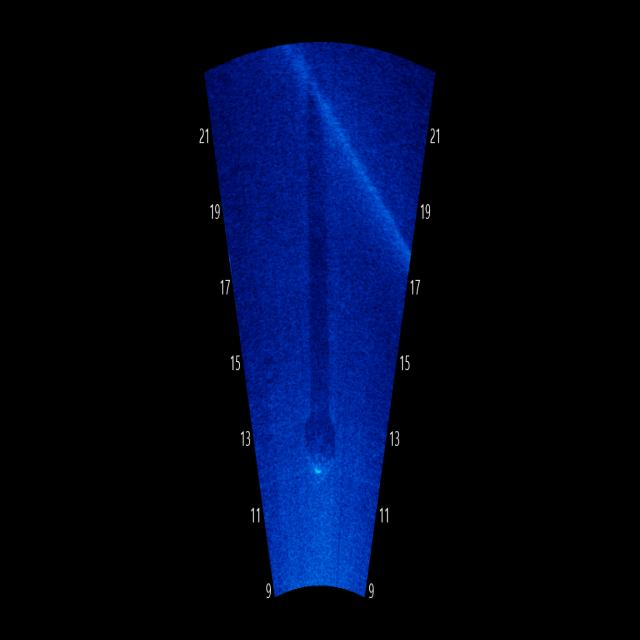square: (297, 408, 342, 486)
